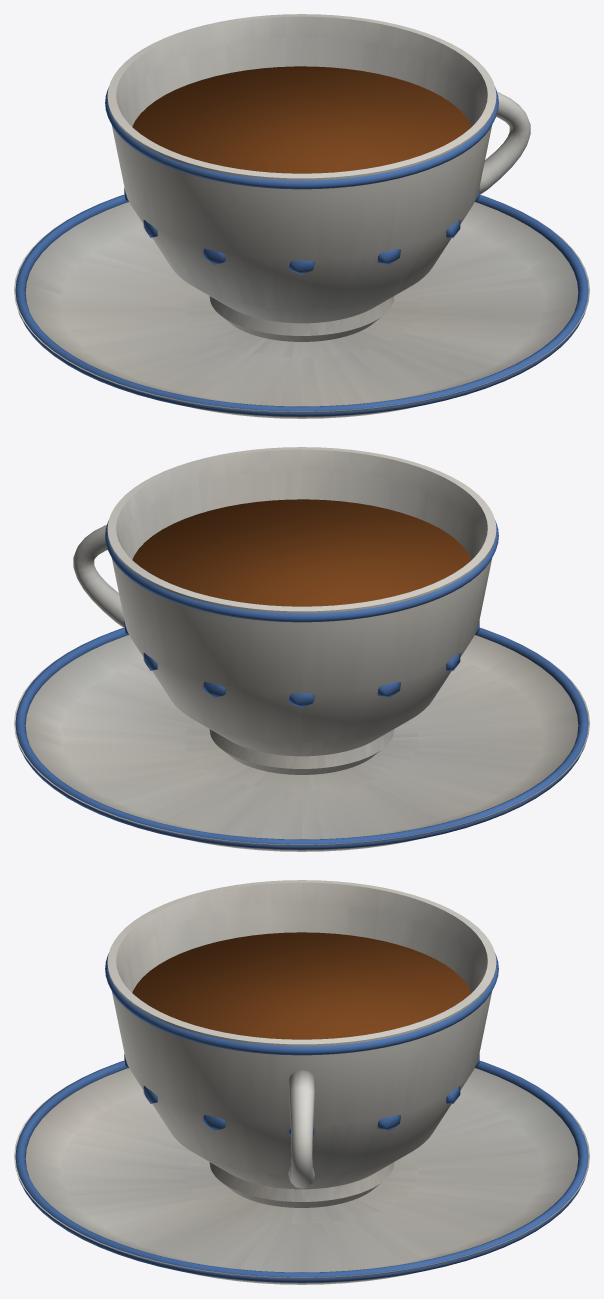
Rendered from frost_teacup.glb.
3 views of the same model, one above another, from view 1: azimuth 30°, elevation 25°; view 2: azimuth 150°, elevation 25°; view 3: azimuth 270°, elevation 25° (orthographic).
Parts seen in each view (by area): view 1: frost_teacup; view 2: frost_teacup; view 3: frost_teacup.
Part boxes in pixels (bbox=[...]): frost_teacup: bbox=[14, 14, 589, 418]; frost_teacup: bbox=[14, 447, 589, 851]; frost_teacup: bbox=[14, 880, 589, 1284].
Bounding box in the file's own units: 46.8 × 21.1 × 46.8.
